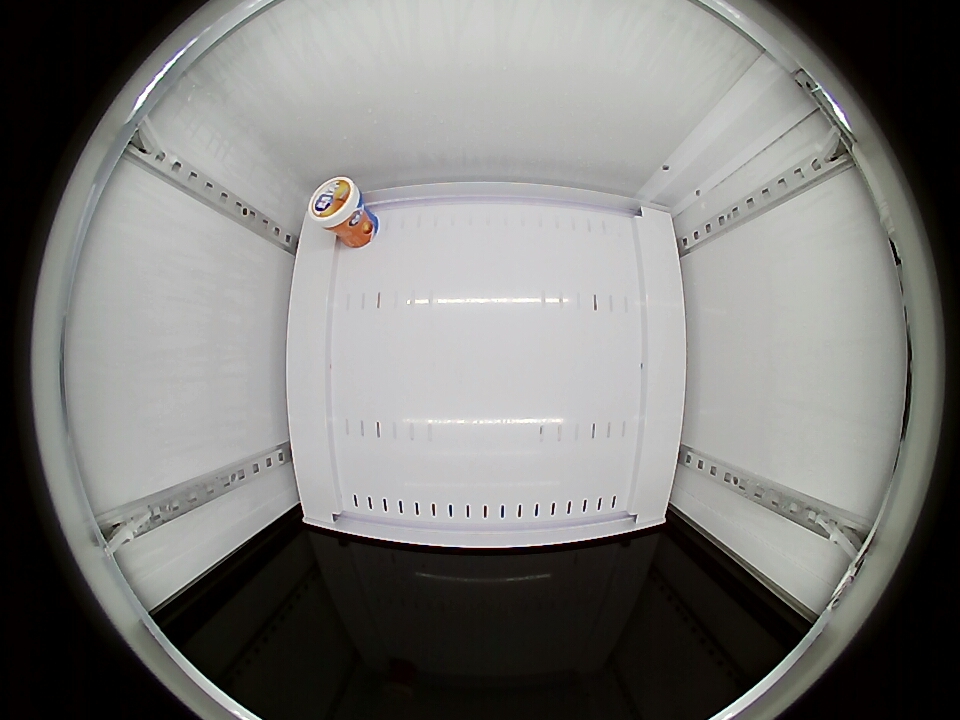yida: (309, 176, 364, 231)
